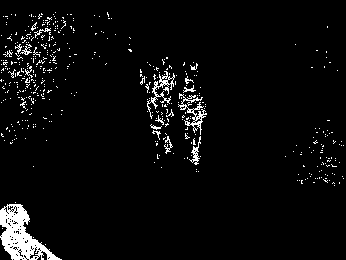person: (183, 78, 213, 170), (150, 83, 175, 166)
